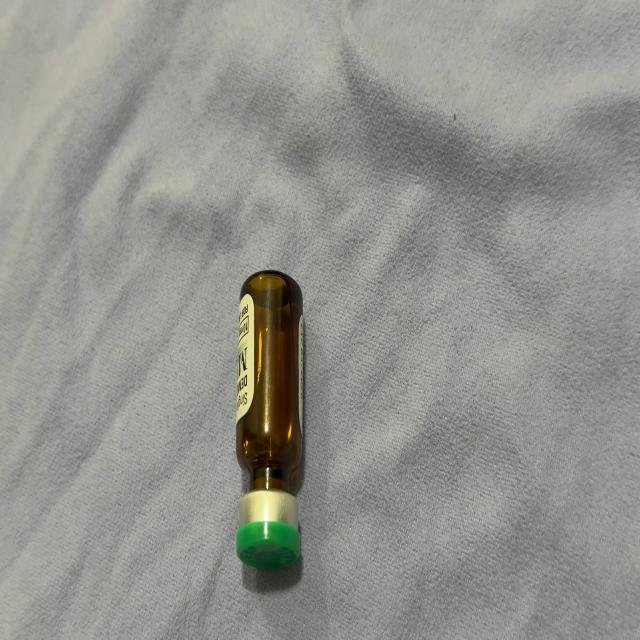midazolm: (236, 276, 303, 564)
